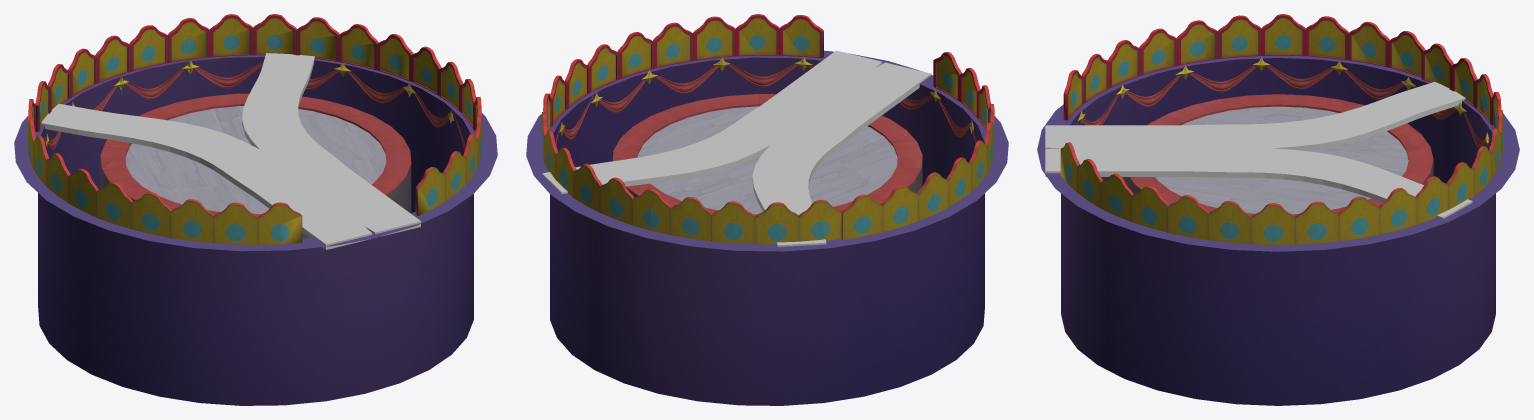
Rendered from Boss Room STAGE .fbx.
The picture shows the model from 3 angles, left to right: view 1: azimuth 30°, elevation 25°; view 2: azimuth 150°, elevation 25°; view 3: azimuth 270°, elevation 25°; orthographic projection.
Visible parts, largest first — view 1: Cylinder.004, Cube.002, Cylinder.003, Cube.006, Cube.004, Plane.002, Cube.025; view 2: Cylinder.004, Cube.002, Cylinder.003, Cube.004, Cube.006, Plane.002, Cube.025; view 3: Cylinder.004, Cube.002, Cylinder.003, Cube.006, Cube.004, Plane.002, Cube.025.
Part boxes in pixels (bbox=[...]): Cylinder.004: bbox=[14, 55, 497, 405]; Cube.002: bbox=[28, 14, 482, 244]; Cylinder.003: bbox=[100, 93, 411, 238]; Cube.006: bbox=[41, 103, 371, 249]; Cube.004: bbox=[242, 53, 420, 236]; Plane.002: bbox=[45, 61, 465, 150]; Cube.025: bbox=[45, 60, 454, 147]; Cylinder.004: bbox=[526, 50, 1008, 405]; Cube.002: bbox=[542, 14, 994, 244]; Cylinder.003: bbox=[612, 94, 922, 216]; Cube.004: bbox=[542, 50, 882, 193]; Cube.006: bbox=[752, 62, 931, 246]; Plane.002: bbox=[555, 60, 976, 145]; Cube.025: bbox=[559, 57, 973, 135]; Cylinder.004: bbox=[1037, 55, 1519, 405]; Cube.002: bbox=[1060, 14, 1502, 244]; Cylinder.003: bbox=[1123, 94, 1433, 216]; Cube.006: bbox=[1045, 82, 1465, 150]; Cube.004: bbox=[1045, 148, 1472, 219]; Plane.002: bbox=[1076, 65, 1489, 148]; Cube.025: bbox=[1077, 57, 1489, 145].
Bounding box in the file's own units: 16924 × 8661 × 16924.
